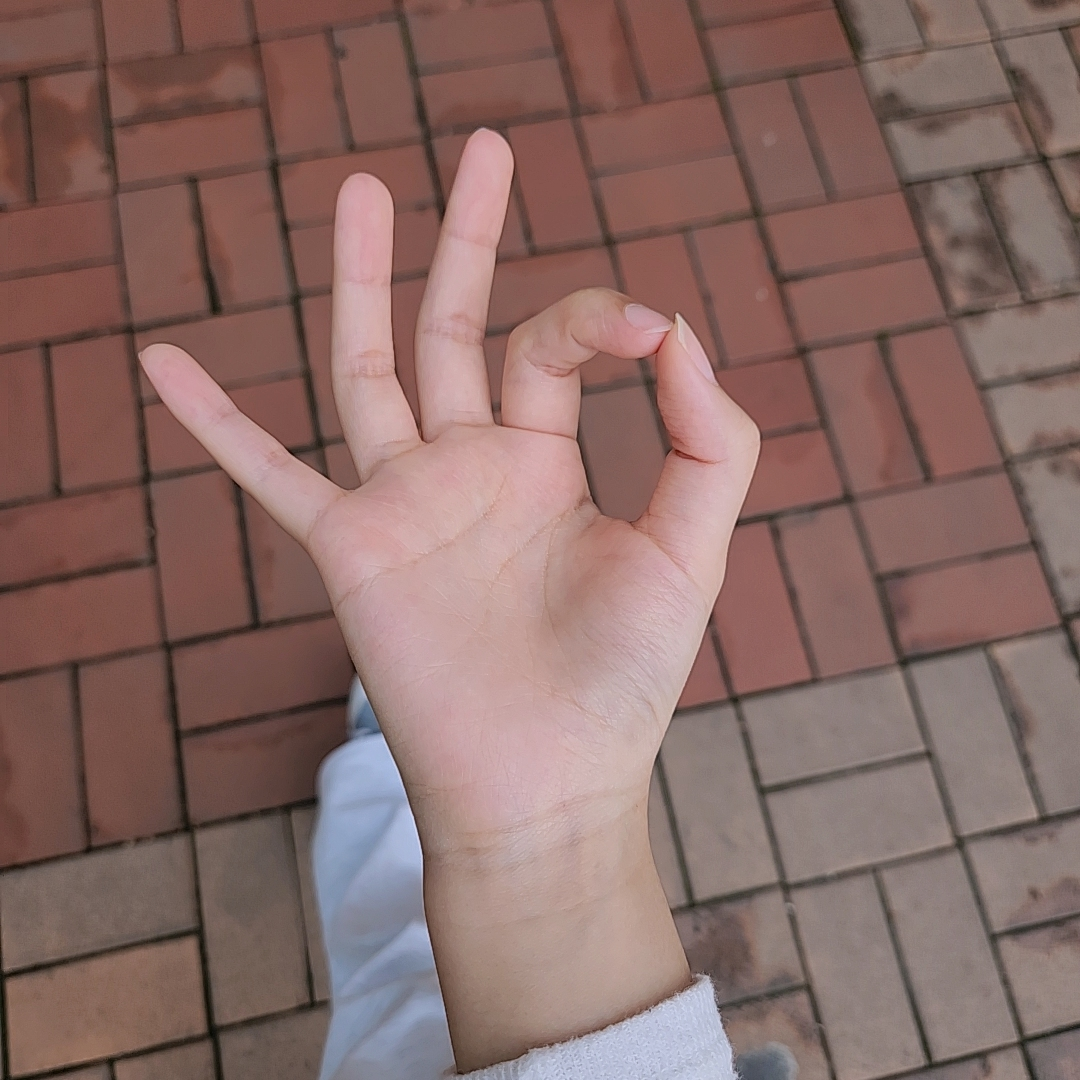see: (133, 127, 766, 801)
